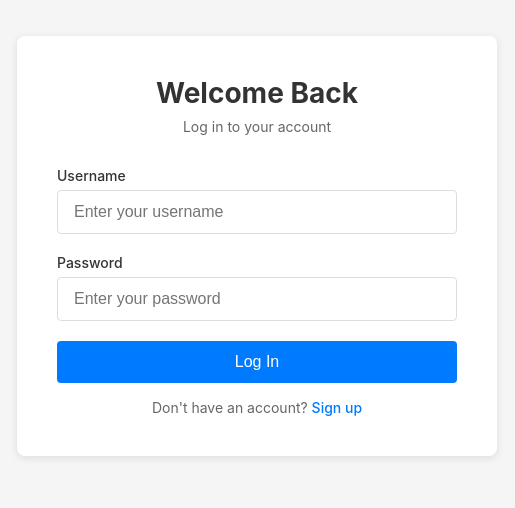
it: Login Component › should display an error message on failed login
The width and height of the screenshot is (515, 508).
In the field labelled "Username": [257, 212] box [57, 190, 457, 234], type "wronguser"
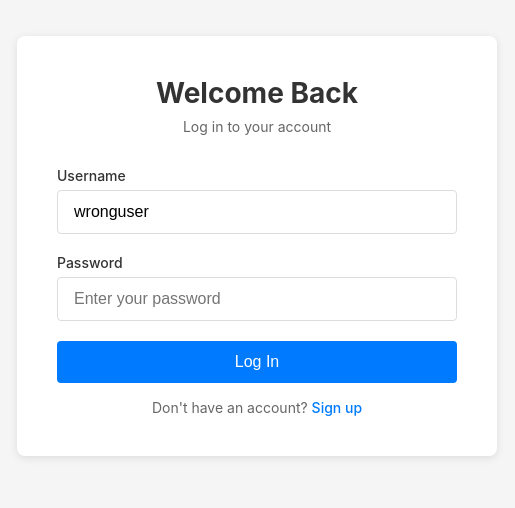
In the password field labelled "Password": [257, 299] box [57, 277, 457, 321], type "wrongpass"
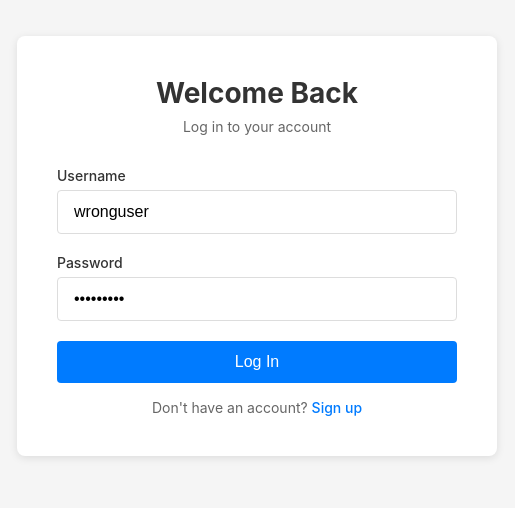
Click the button "Log In": [257, 362] box [57, 341, 457, 383]
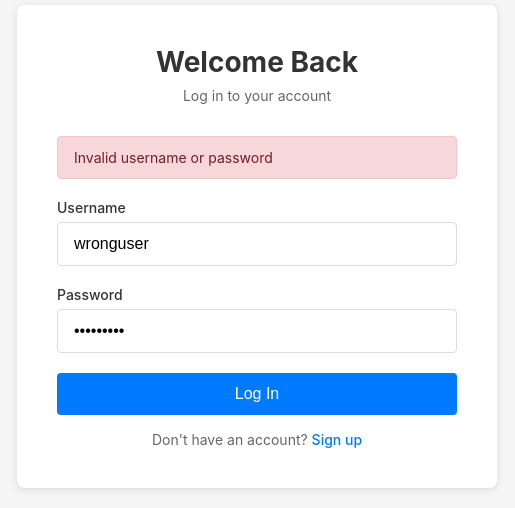
Expected: the text "Invalid username or password" is shown, [57, 136, 457, 178]
